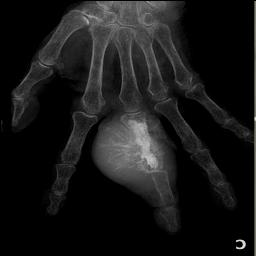cancer: (93, 117, 175, 175)
